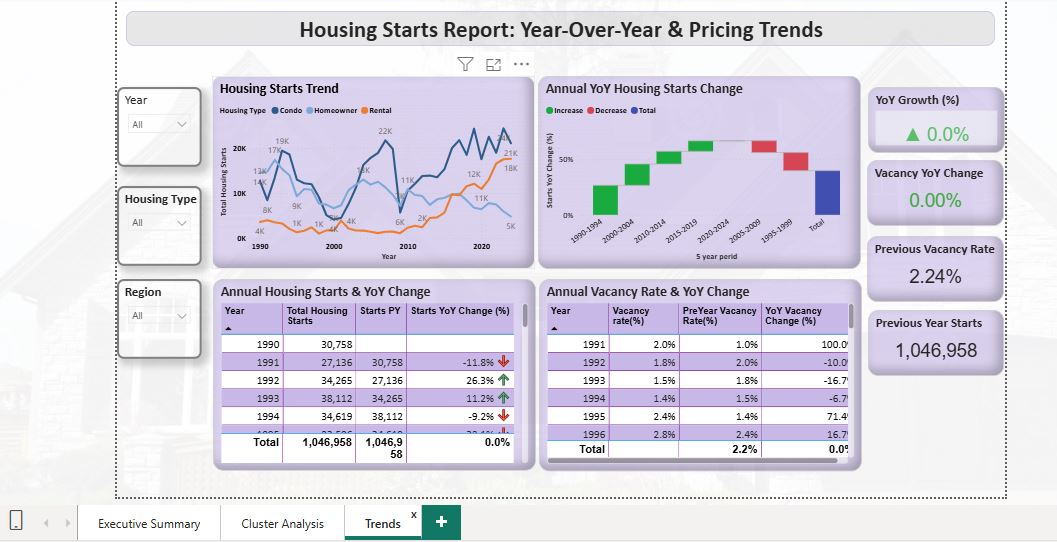

The page's visual inventory and layout, read from the dashboard file:
{"tool":"powerbi","page":{"name":"Trends","canvas":[1280,720],"ordinal":2},"visuals":[{"type":"slicer","title":"Housing Type","fields":{"Values":["Dim Housing Type.Housing Type"]},"box":[0,272.2,122.4,115.2],"z":0},{"type":"slicer","title":"Region","fields":{"Values":["Region.Region"]},"box":[0,406.1,122.4,115.2],"z":1000},{"type":"shape","box":[13,20.2,1251.4,50.4],"z":2000},{"type":"card","title":"Vacancy YoY Change","fields":{"Values":["Measure Table.YoY Vacancy Change (%)"]},"box":[1080,234.7,197.3,95],"z":3000},{"type":"slicer","title":"Year","fields":{"Values":["Date Table.Year"]},"box":[0,129.6,122.4,115.2],"z":4000},{"type":"cardVisual","title":"YoY Growth (%)","fields":{"Data":["Measure Table.YoY Growth Display"]},"box":[1081.4,129.6,197,95],"z":5000},{"type":"card","title":"Previous Vacancy Rate","fields":{"Values":["Measure Table.PreYear Vacancy Rate(%)"]},"box":[1080,344.2,197.3,95],"z":6000},{"type":"card","title":"Previous Year Starts","fields":{"Values":["Measure Table.Starts PY"]},"box":[1081.4,450.7,195.8,95],"z":7000},{"type":"lineChart","title":"Housing Starts Trend","fields":{"Y":["Measure Table.Total Housing Starts"],"Series":["Dim Housing Type.Housing Type"],"Category":["Date Table.Year"]},"box":[136.8,113.8,465.1,277.9],"z":8000},{"type":"waterfallChart","title":"Annual YoY Housing Starts Change","fields":{"Y":["Measure Table.Starts YoY Change (%)"],"Category":["Date Table.5 year perid"]},"box":[606.2,113.8,465,277.9],"z":9000},{"type":"tableEx","title":"Annual Housing Starts & YoY Change","fields":{"Values":["Date Table.Year","Measure Table.Total Housing Starts","Measure Table.Starts PY","Measure Table.Starts YoY Change (%)"]},"box":[138.2,406.1,465.1,276.5],"z":11000},{"type":"tableEx","title":"Annual Vacancy Rate & YoY Change","fields":{"Values":["Date Table.Year","CMHC vacancy rates.Vacancy rate(%)","Measure Table.PreYear Vacancy Rate(%)","Measure Table.YoY Vacancy Change (%)"]},"box":[607.7,406.1,465,277],"z":12000}]}

Visuals, with their boxes on the page's 1280x720 design canvas (x1, y1, x2, y2). These are canvas units, not pixel positions in the 1057x542 screenshot, which may show the page scaled, cropped or inside an application window:
"Housing Type" slicer: <region>0, 272, 122, 387</region>
"Region" slicer: <region>0, 406, 122, 521</region>
shape: <region>13, 20, 1264, 71</region>
"Vacancy YoY Change" card: <region>1080, 235, 1277, 330</region>
"Year" slicer: <region>0, 130, 122, 245</region>
"YoY Growth (%)" cardVisual: <region>1081, 130, 1278, 225</region>
"Previous Vacancy Rate" card: <region>1080, 344, 1277, 439</region>
"Previous Year Starts" card: <region>1081, 451, 1277, 546</region>
"Housing Starts Trend" lineChart: <region>137, 114, 602, 392</region>
"Annual YoY Housing Starts Change" waterfallChart: <region>606, 114, 1071, 392</region>
"Annual Housing Starts & YoY Change" tableEx: <region>138, 406, 603, 683</region>
"Annual Vacancy Rate & YoY Change" tableEx: <region>608, 406, 1073, 683</region>
